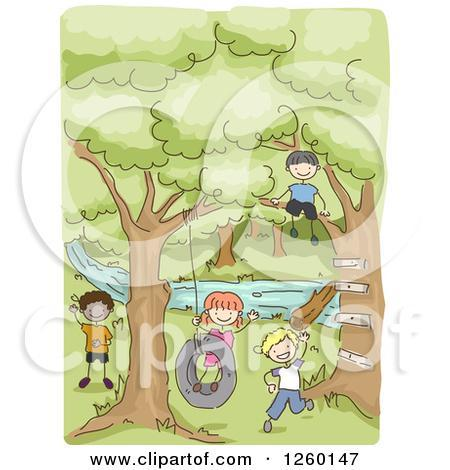person: (191, 288, 258, 392), (268, 147, 332, 246), (66, 287, 124, 391), (258, 331, 316, 430)
